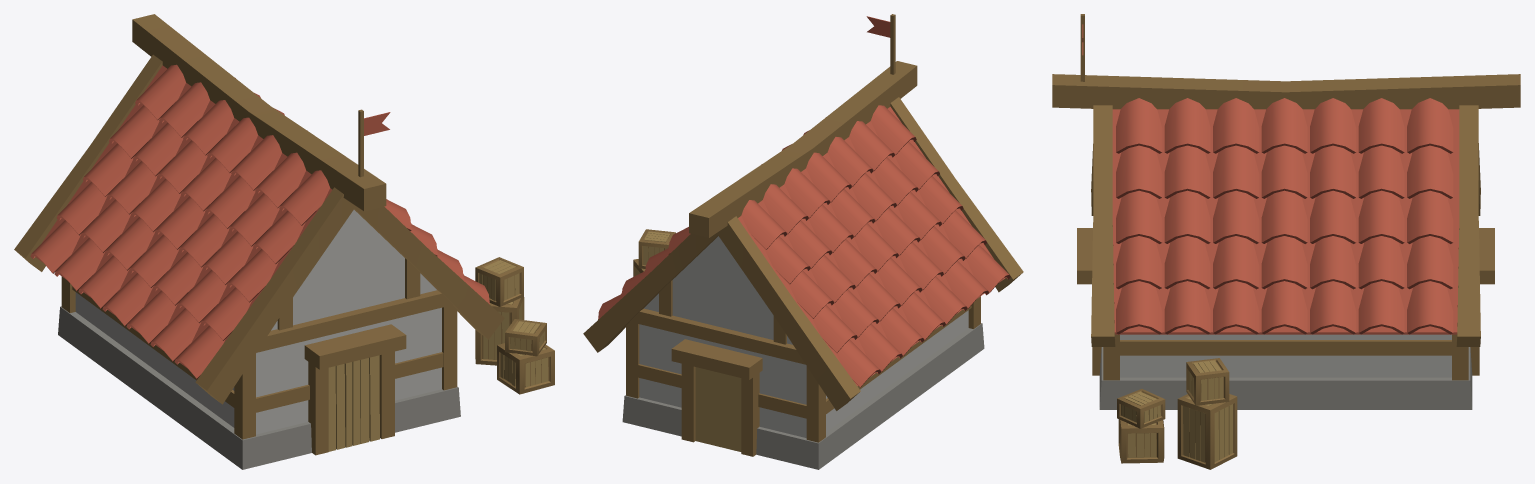
File: Houses_SecondAge_1_Level2.glb
3 views of the same model, side by side, from view 1: azimuth 30°, elevation 25°; view 2: azimuth 150°, elevation 25°; view 3: azimuth 270°, elevation 25° (orthographic). The views are drawn at different scales.
Parts seen in each view (by area): view 1: Houses_SecondAge_1_Level2; view 2: Houses_SecondAge_1_Level2; view 3: Houses_SecondAge_1_Level2.
Boxes of the visible parts, box(x1,y1,x2,y2) form: Houses_SecondAge_1_Level2: box(14, 14, 554, 469); Houses_SecondAge_1_Level2: box(583, 14, 1023, 469); Houses_SecondAge_1_Level2: box(1052, 14, 1520, 469).
Bounding box in the file's own units: 1.11 × 0.9522 × 1.17.
1 material, 1 textured.
